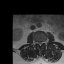CCS_normal: (39, 40, 41, 47)
LFS_stenosis: (43, 39, 44, 44)
LLS_normal: (41, 40, 43, 45)
RFS_stenosis: (35, 40, 37, 44)
RLS_normal: (37, 40, 39, 45)
